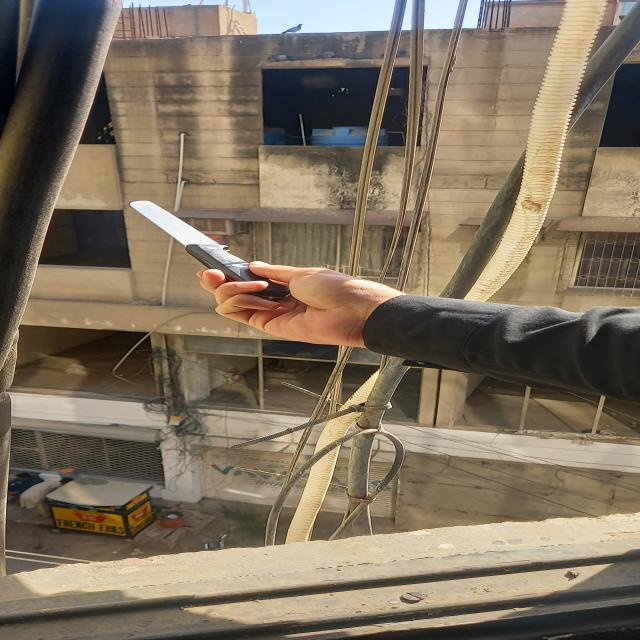weapon: (122, 195, 300, 315)
